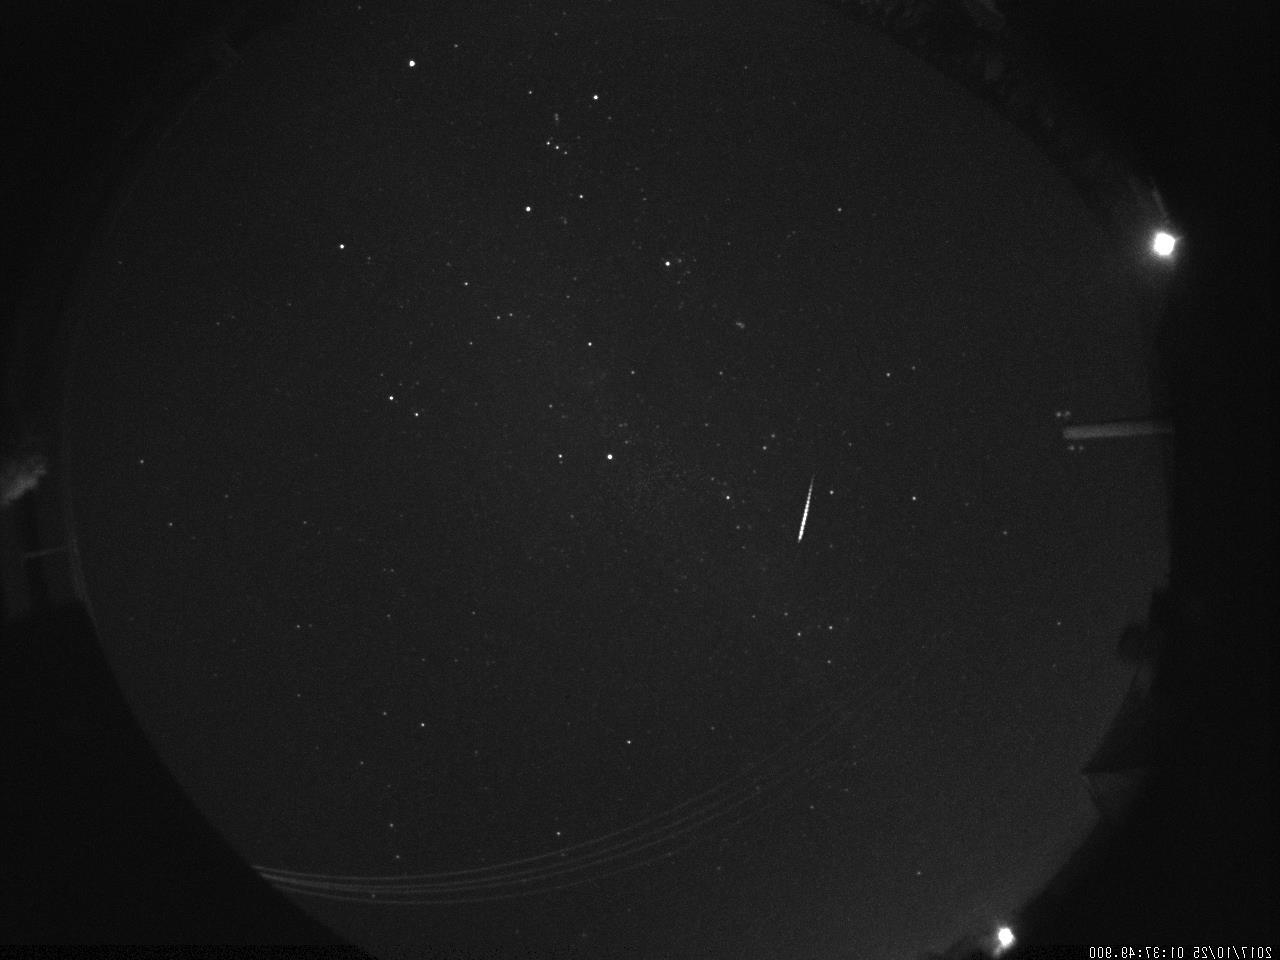meteor: (789, 477, 818, 548)
